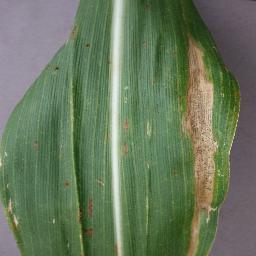Corn_Blight: (178, 35, 246, 256), (0, 189, 23, 248), (138, 164, 152, 237), (78, 191, 94, 243), (115, 111, 132, 157), (61, 20, 81, 38), (32, 135, 45, 158), (62, 171, 72, 192), (144, 118, 154, 139), (43, 63, 61, 74), (47, 215, 64, 226), (79, 38, 93, 51), (0, 145, 5, 178)
